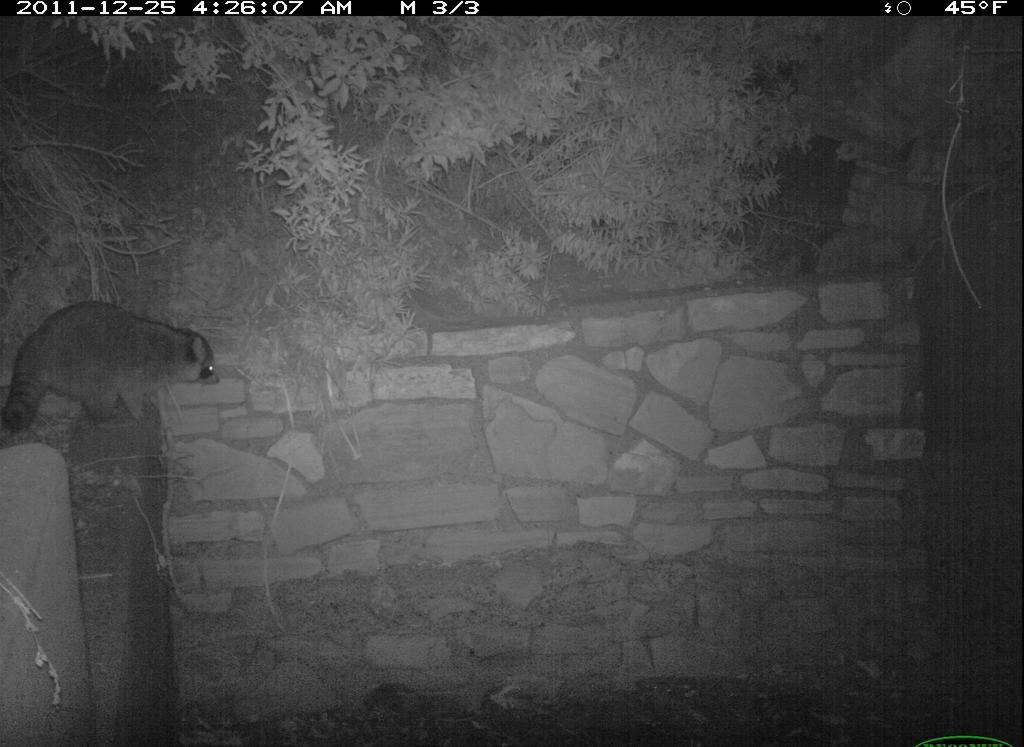raccoon: (4, 296, 227, 442)
